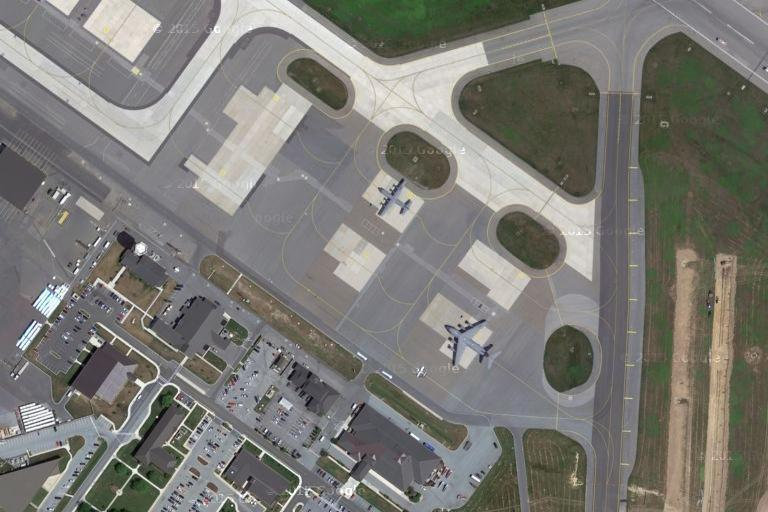C-130: (371, 178, 414, 219)
C-17: (439, 316, 498, 367)
